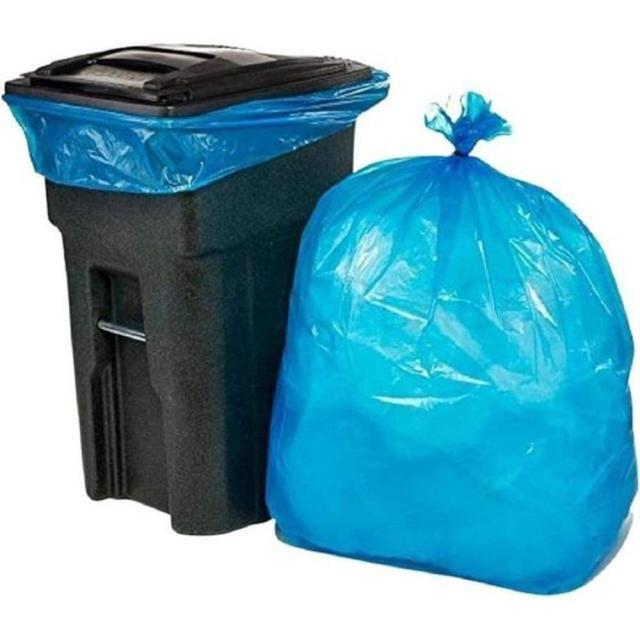Garbage_Bag: (273, 122, 632, 602)
